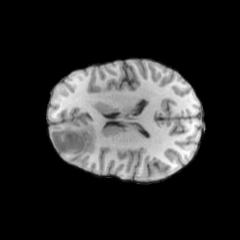glioma: (50, 123, 95, 155)
